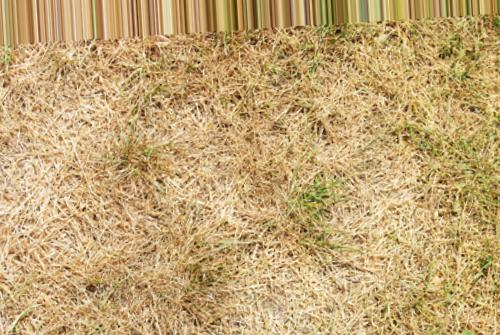patch: (27, 69, 415, 296)
